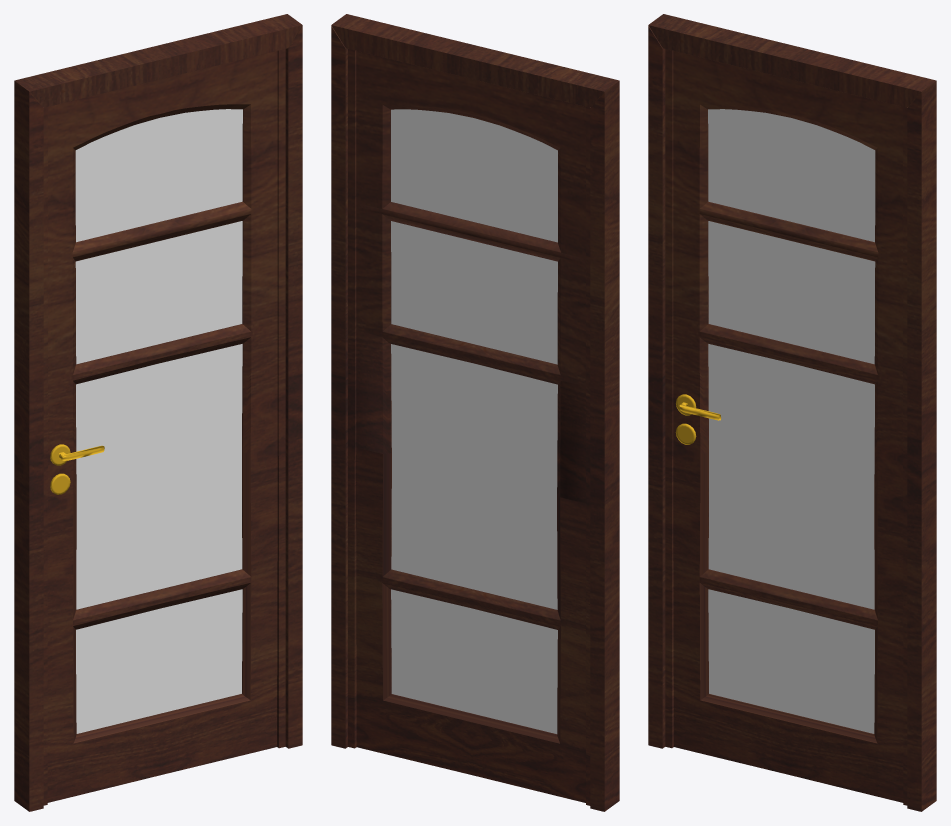
Rendered from PUERTA10_FLORIDA.glb.
3 views of the same model, side by side, from view 1: azimuth 30°, elevation 25°; view 2: azimuth 150°, elevation 25°; view 3: azimuth 330°, elevation 25° (orthographic).
Visible parts, largest first — view 1: CRISTAL_GRANDE, Puerta10_FLORIDA, Puerta10_Marco, Puerta10_Cerradura; view 2: CRISTAL_GRANDE, Puerta10_FLORIDA, Puerta10_Marco; view 3: CRISTAL_GRANDE, Puerta10_FLORIDA, Puerta10_Marco, Puerta10_Cerradura.
Part boxes in pixels (bbox=[...]): CRISTAL_GRANDE: bbox=[75, 109, 242, 733]; Puerta10_FLORIDA: bbox=[43, 49, 285, 805]; Puerta10_Marco: bbox=[14, 14, 302, 811]; Puerta10_Cerradura: bbox=[50, 444, 104, 494]; CRISTAL_GRANDE: bbox=[391, 109, 557, 733]; Puerta10_FLORIDA: bbox=[348, 49, 590, 805]; Puerta10_Marco: bbox=[331, 14, 619, 811]; CRISTAL_GRANDE: bbox=[708, 109, 875, 733]; Puerta10_FLORIDA: bbox=[665, 49, 907, 805]; Puerta10_Marco: bbox=[648, 14, 936, 811]; Puerta10_Cerradura: bbox=[675, 394, 721, 444].
Size of the model in its own units: 769 by 1936 by 85.
Materials: 5 (3 with a texture image).
